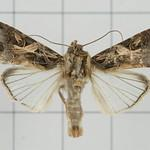Spodoptera litura: (1, 22, 150, 138)
